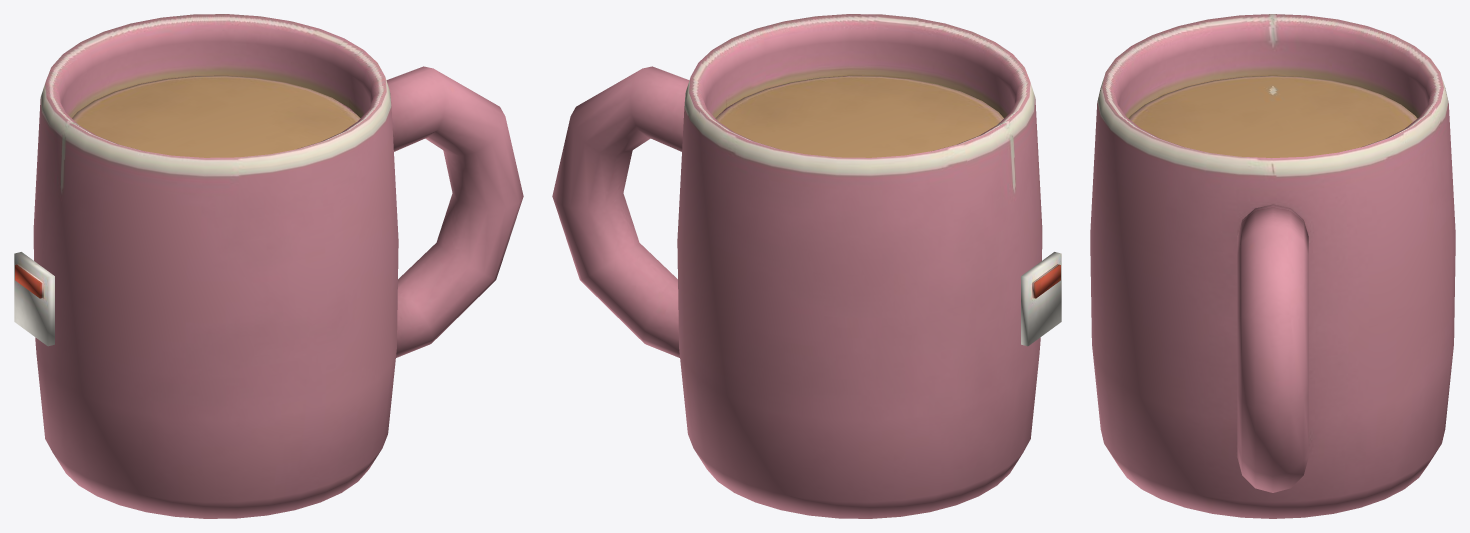
Rendered from mug_milktea.glb.
The picture shows the model from 3 angles, left to right: view 1: azimuth 30°, elevation 25°; view 2: azimuth 150°, elevation 25°; view 3: azimuth 270°, elevation 25°; orthographic projection.
Parts seen in each view (by area): view 1: prop_mug_milktea_felt; view 2: prop_mug_milktea_felt; view 3: prop_mug_milktea_felt.
Part boxes in pixels (x1,y1,x2,y2): prop_mug_milktea_felt: (14, 14, 523, 518); prop_mug_milktea_felt: (552, 14, 1061, 518); prop_mug_milktea_felt: (1090, 14, 1455, 518).
Bounding box in the file's own units: 0.2032 × 0.1447 × 0.131.
Materials: 1 (1 with a texture image).
